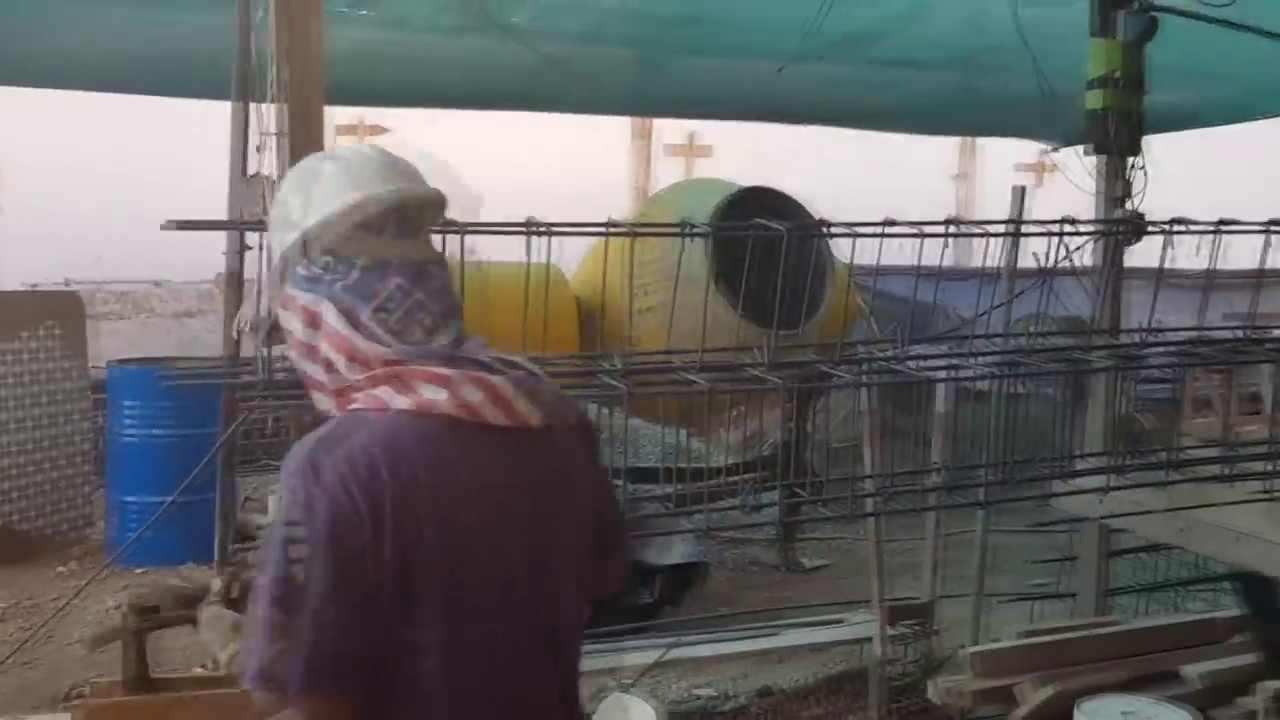helmet: (266, 148, 450, 263)
helmet-on: (262, 146, 471, 380)
person: (200, 140, 636, 720)
